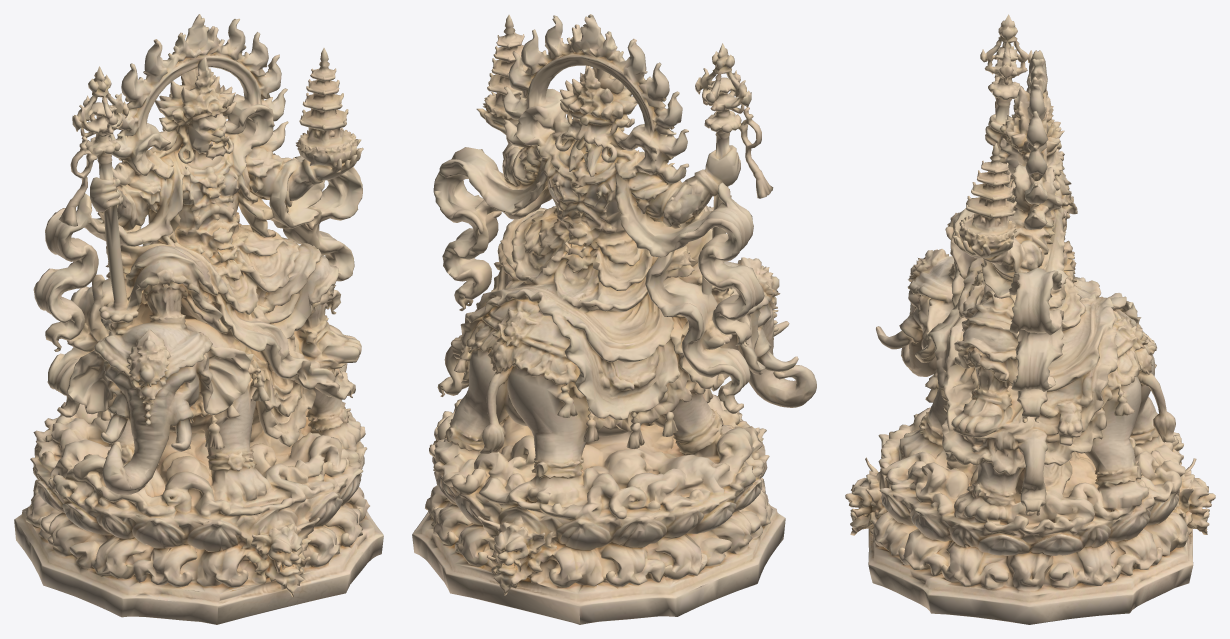
The picture shows the model from 3 angles, left to right: view 1: azimuth 30°, elevation 25°; view 2: azimuth 150°, elevation 25°; view 3: azimuth 270°, elevation 25°; orthographic projection. The views are drawn at different scales.
Parts seen in each view (by area): view 1: owner-collection20-03; view 2: owner-collection20-03; view 3: owner-collection20-03.
Boxes of the visible parts, x1=… form: owner-collection20-03: x1=14, y1=14, x2=383, y2=624; owner-collection20-03: x1=412, y1=14, x2=816, y2=624; owner-collection20-03: x1=845, y1=14, x2=1215, y2=624.
Bounding box in the file's own units: 0.624 × 0.9998 × 0.6734.
Materials: 1 (1 with a texture image).
